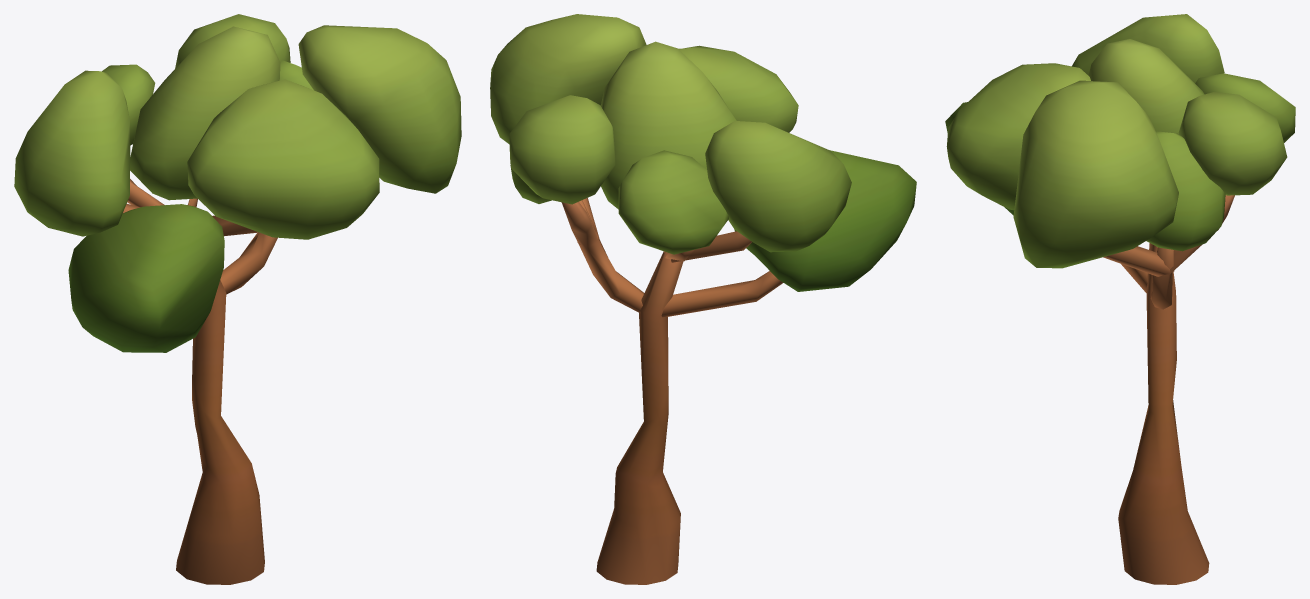
File: decorLarge-forest-62.glb
3 views of the same model, side by side, from view 1: azimuth 30°, elevation 25°; view 2: azimuth 150°, elevation 25°; view 3: azimuth 270°, elevation 25° (orthographic). The views are drawn at different scales.
Visible parts, largest first — view 1: piece; view 2: piece; view 3: piece.
Part boxes in pixels (x1,y1,x2,y2): piece: (14,14,461,584); piece: (490,14,916,584); piece: (945,14,1295,584).
Size of the model in its own units: 2.26 by 3.02 by 1.82.
1 material, 1 textured.
